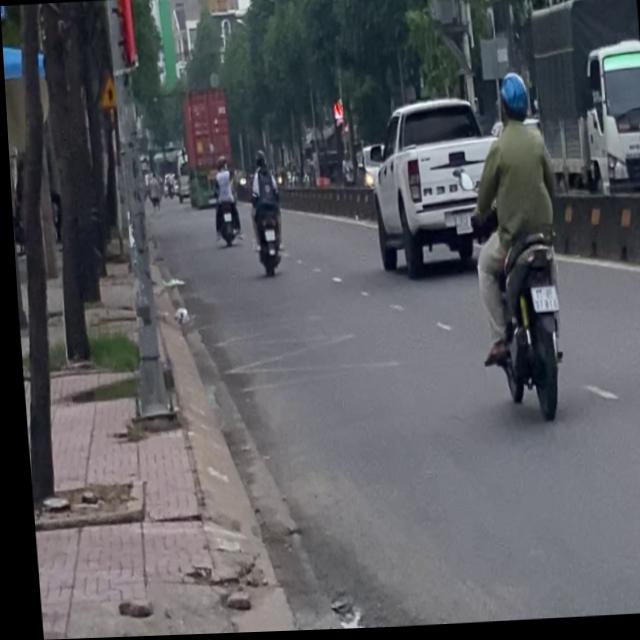helmet: (497, 72, 530, 127)
licenseplate: (458, 69, 572, 426)
nohelmet: (528, 287, 554, 314)
